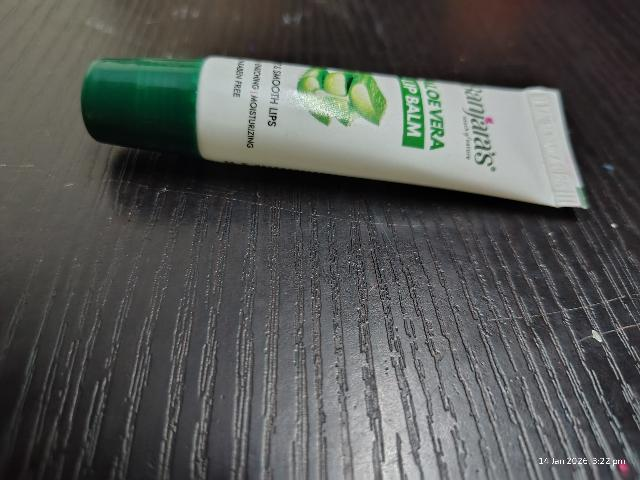banjaras lipbam: (80, 41, 586, 226)
